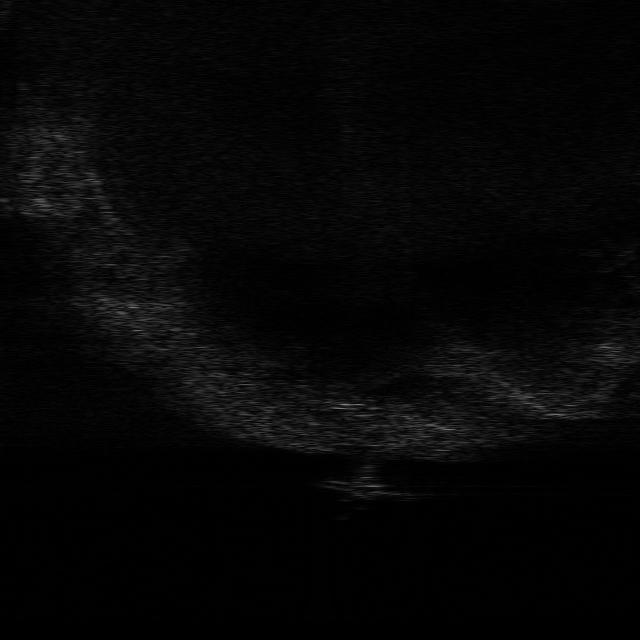plane: (315, 462, 413, 504)
